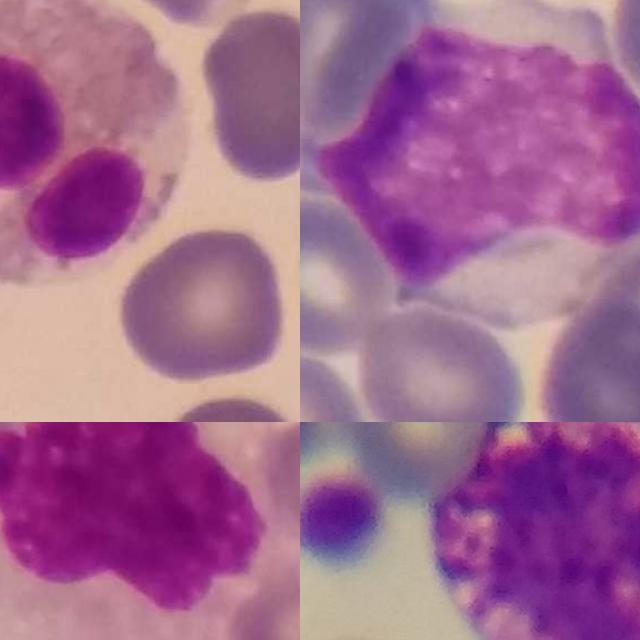Basophil: (427, 422, 640, 640)
Eosinophil: (0, 0, 193, 290)
Monocyte: (328, 0, 640, 328), (0, 422, 300, 640)
